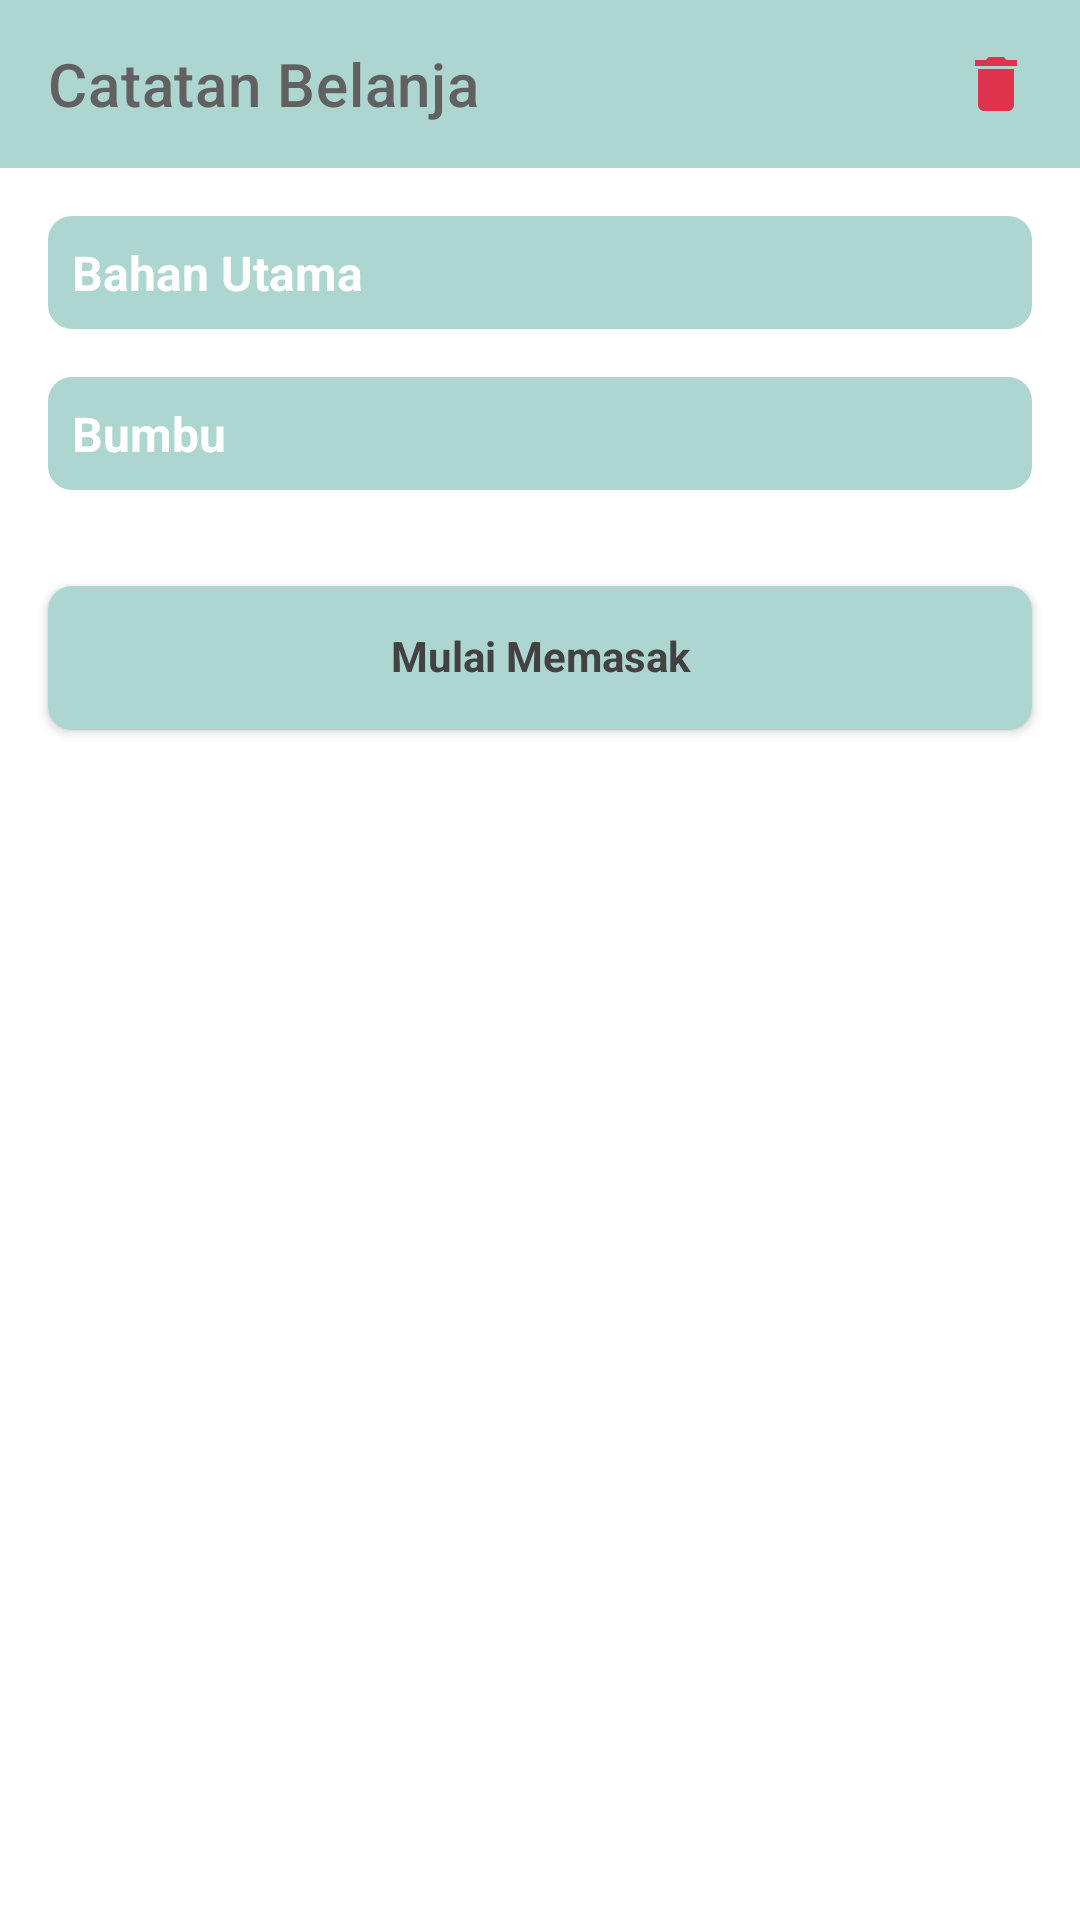

Locate icon controls on the screen. Image size 1080px x 1920px, boxes as (x1, y1, x2, y2).
delete: (975, 57, 1017, 111)
